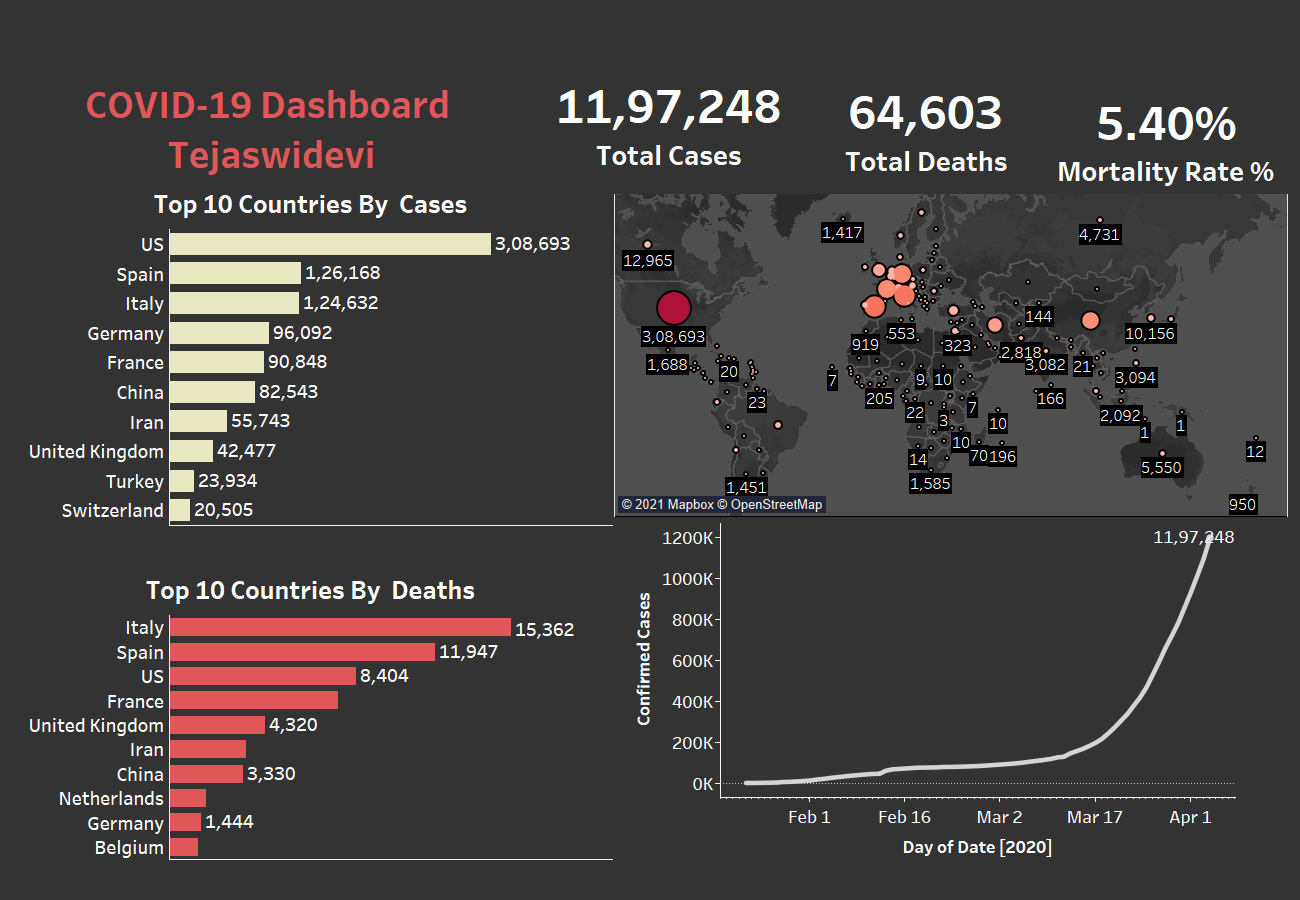

Layout of this report page (visuals, bound fields, positions):
{"tool":"tableau","page":{"name":"Dashboard 1","canvas":[1300,900],"ordinal":0},"visuals":[{"type":"worksheet","title":"Toatal Cases","mark":"Automatic","box":[520,59,298,128]},{"type":"worksheet","title":"Total Deaths","mark":"Automatic","box":[821,66,211,126]},{"type":"worksheet","box":[17,73,501,110]},{"type":"worksheet","title":"Mortatlity Rate","mark":"Automatic","box":[1052,86,229,107]},{"type":"worksheet","title":"Cases BY Country","mark":"Automatic","rows":["Country_Region"],"cols":["Cases"],"box":[9,180,603,345]},{"type":"worksheet","title":"world map","mark":"Automatic","box":[614,194,674,323]},{"type":"worksheet","title":"Sheet 9","mark":"Automatic","rows":["Calculation_478226039946420226"],"cols":["Date"],"box":[624,523,611,342]},{"type":"worksheet","title":"Deaths By Country","mark":"Automatic","rows":["Country_Region"],"cols":["Cases"],"box":[9,566,603,293]}]}

Visuals, with their boxes in screenshot pixels (x1, y1, x2, y2), scaled from the page's 1300x900 canvas onto the 1300x900 screenshot:
"Toatal Cases" worksheet: bbox(520, 59, 818, 187)
"Total Deaths" worksheet: bbox(821, 66, 1032, 192)
worksheet: bbox(17, 73, 518, 183)
"Mortatlity Rate" worksheet: bbox(1052, 86, 1281, 193)
"Cases BY Country" worksheet: bbox(9, 180, 612, 525)
"world map" worksheet: bbox(614, 194, 1288, 517)
"Sheet 9" worksheet: bbox(624, 523, 1235, 865)
"Deaths By Country" worksheet: bbox(9, 566, 612, 859)
